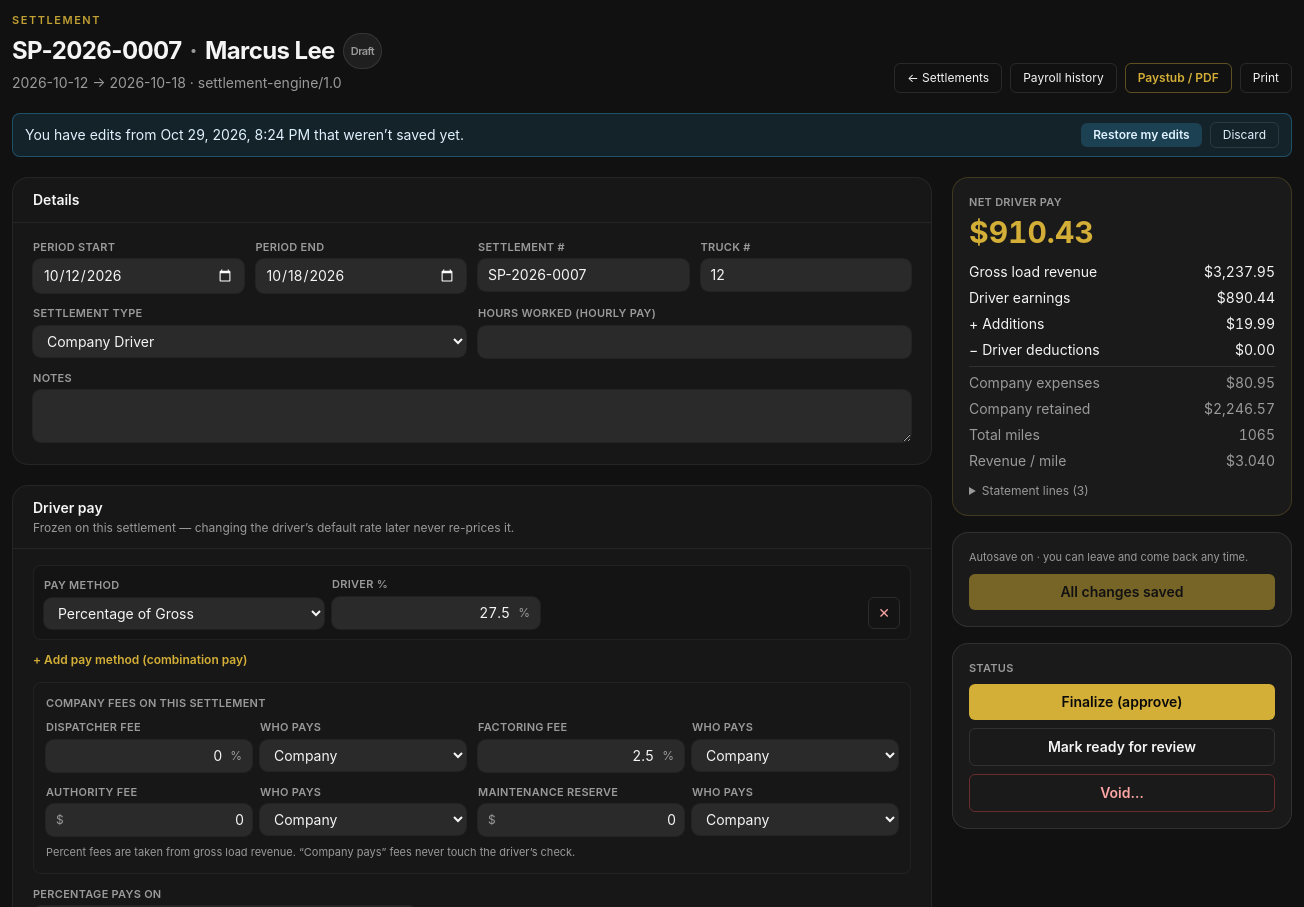
Test: SettlementEditor browser autosave › requires a decision about recovered edits before opening a clean paystub
Click the link with test id "open-paystub" at {"x": 1178, "y": 78}, box [1125,62,1232,92]
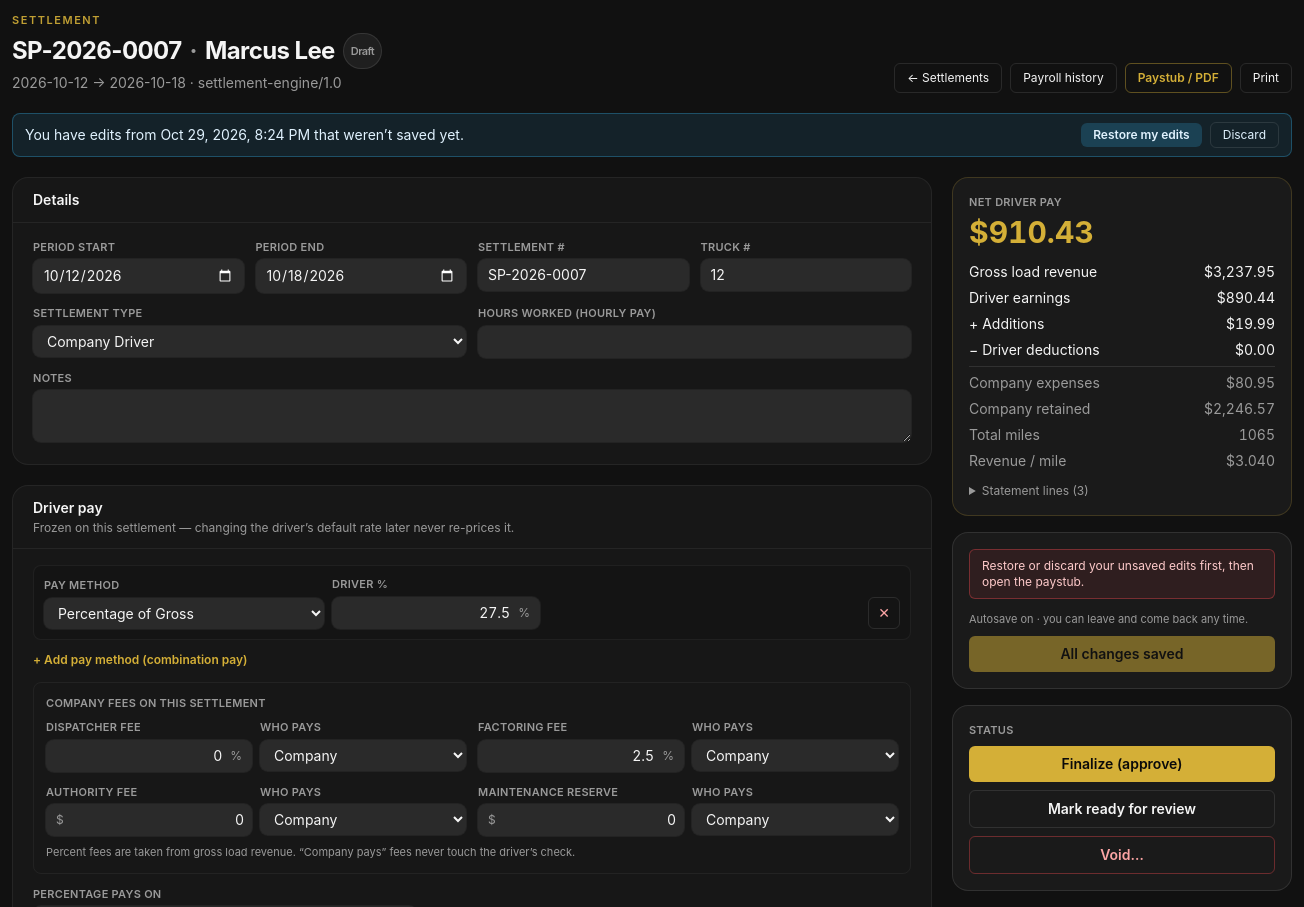
Now the text "Restore or discard your unsaved edits first" is shown, box [982,558,1254,589]
